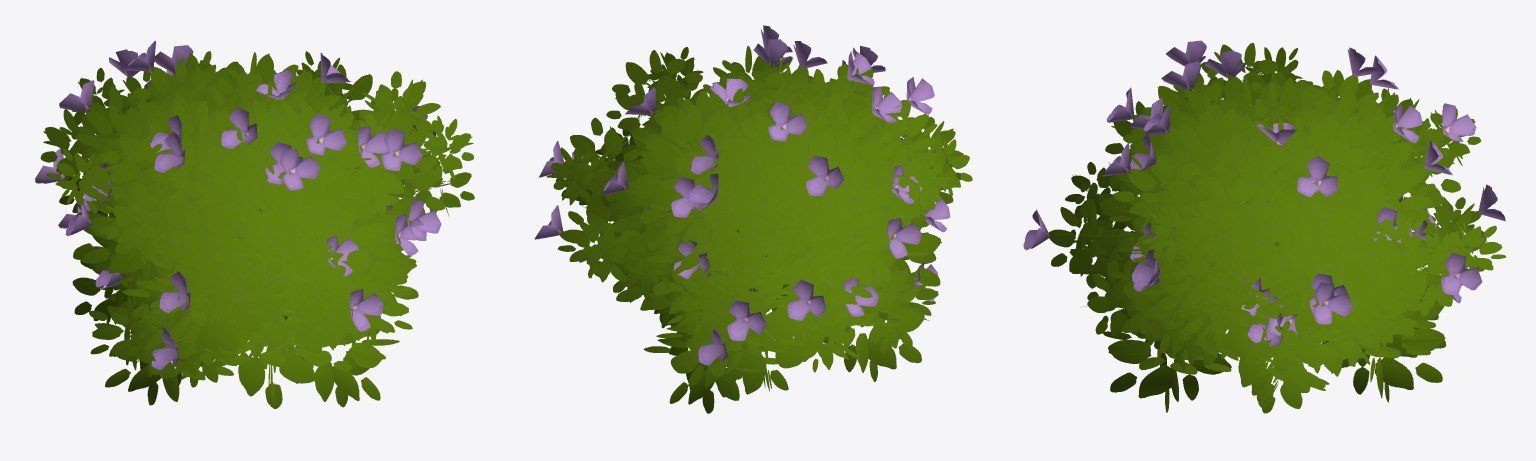
File: Bush_Common_Flowers.glb
3 renders of one model, left to right at view 1: azimuth 30°, elevation 25°; view 2: azimuth 150°, elevation 25°; view 3: azimuth 270°, elevation 25°, orthographic. The views are drawn at different scales.
Visible parts, largest first — view 1: Bush_Common_Flowers; view 2: Bush_Common_Flowers; view 3: Bush_Common_Flowers.
Part boxes in pixels (x1,y1,x2,y2): Bush_Common_Flowers: [35, 40, 474, 408]; Bush_Common_Flowers: [534, 25, 972, 413]; Bush_Common_Flowers: [1023, 40, 1505, 413].
Size of the model in its own units: 1.91 by 1.58 by 1.97.
2 materials, 2 textured.
